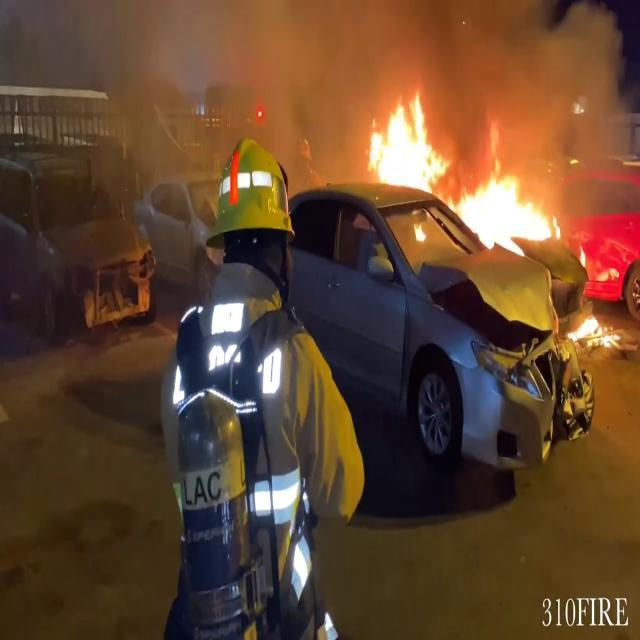Fire: (455, 156, 564, 258), (363, 89, 450, 197)
Smoke: (200, 0, 639, 145)
